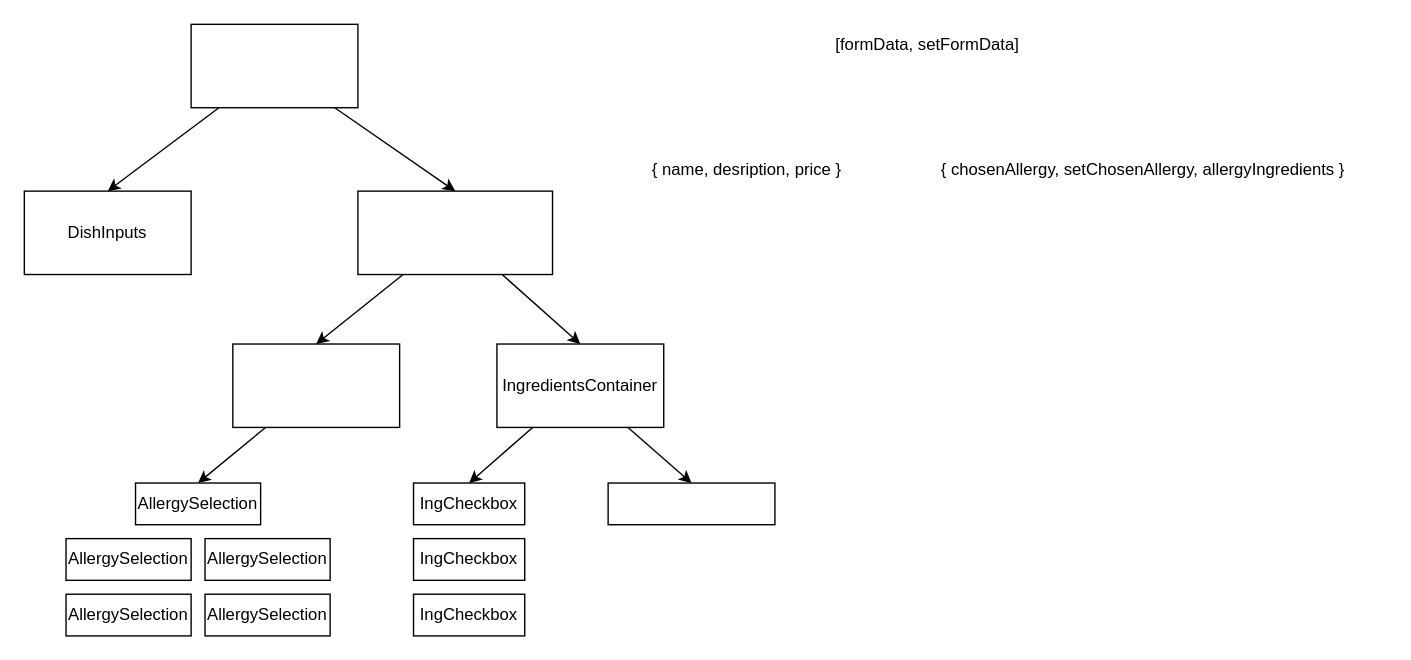
Some shapes in this 1411 by 660 pixel diagram are drawn without their labels. The shapes that lost their labels are listed below. From the top down, each one's box as (x1, y1, x2, y2) in pixels, then its label:
(190, 23, 358, 108): Form
(357, 190, 553, 275): AllergyIngredientInputs
(231, 343, 400, 427): AllergiesContainer
(607, 482, 775, 525): NewIngredientForm
